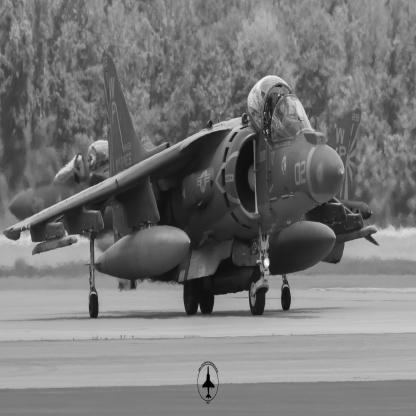AV8B: (4, 51, 378, 319), (9, 108, 381, 291)
